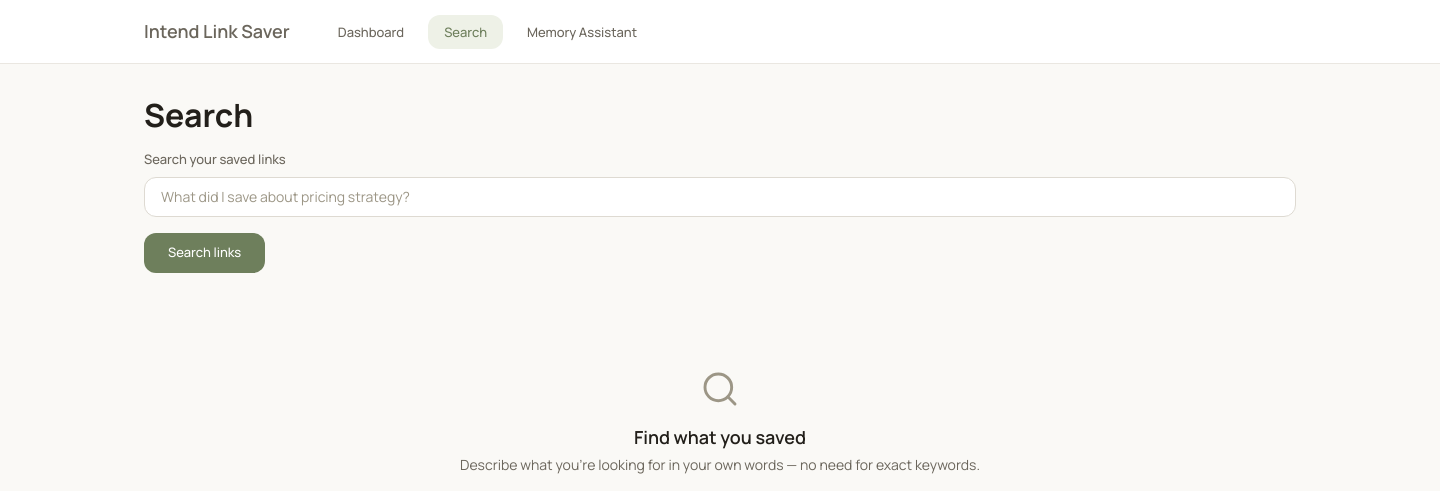
Scenario: SearchPage › shows an empty state when nothing matches
Type "nonsense" into the field labelled "Search your saved links".
click(720, 197); type("nonsense")  # box [144,177,1296,217]
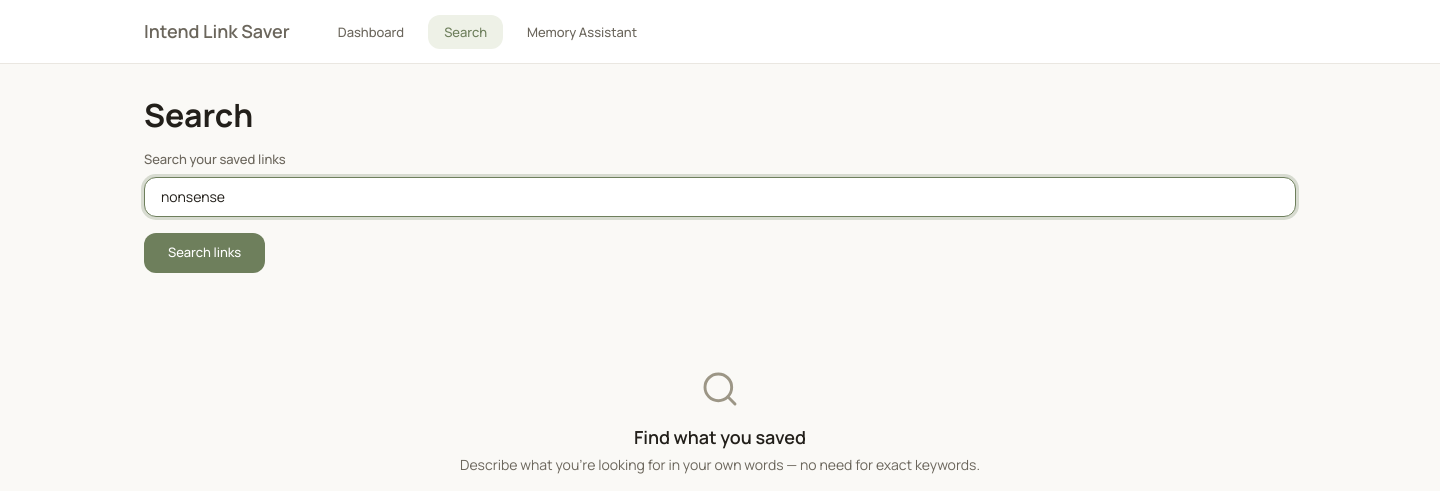
Click the button "Search links".
click(205, 253)  # box [144,233,265,273]
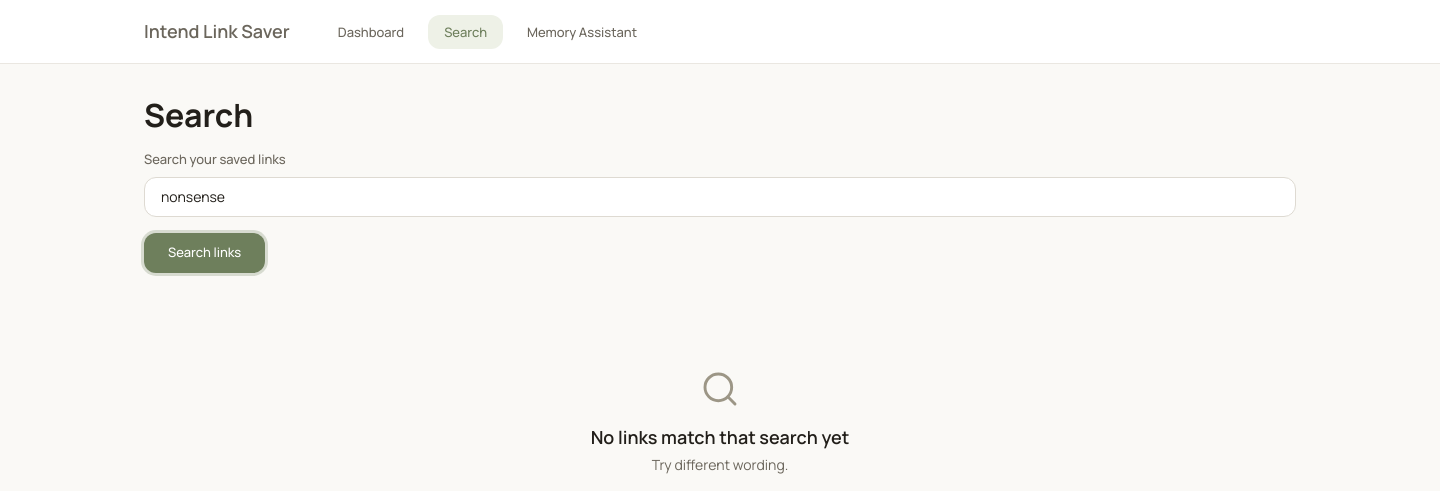
Check: the heading "No links match that search yet" is shown, box [591,425,849,450]
